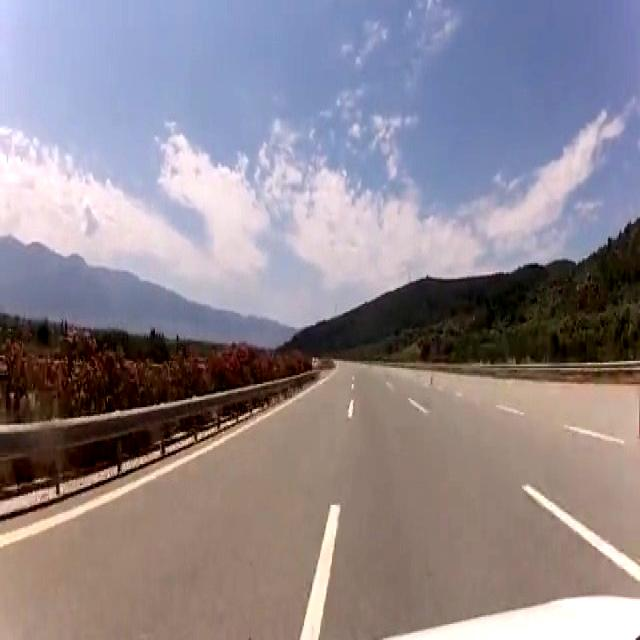lane: (1, 403, 285, 548), (522, 484, 639, 580), (300, 505, 340, 638), (348, 400, 354, 417)
road: (0, 363, 639, 636)
